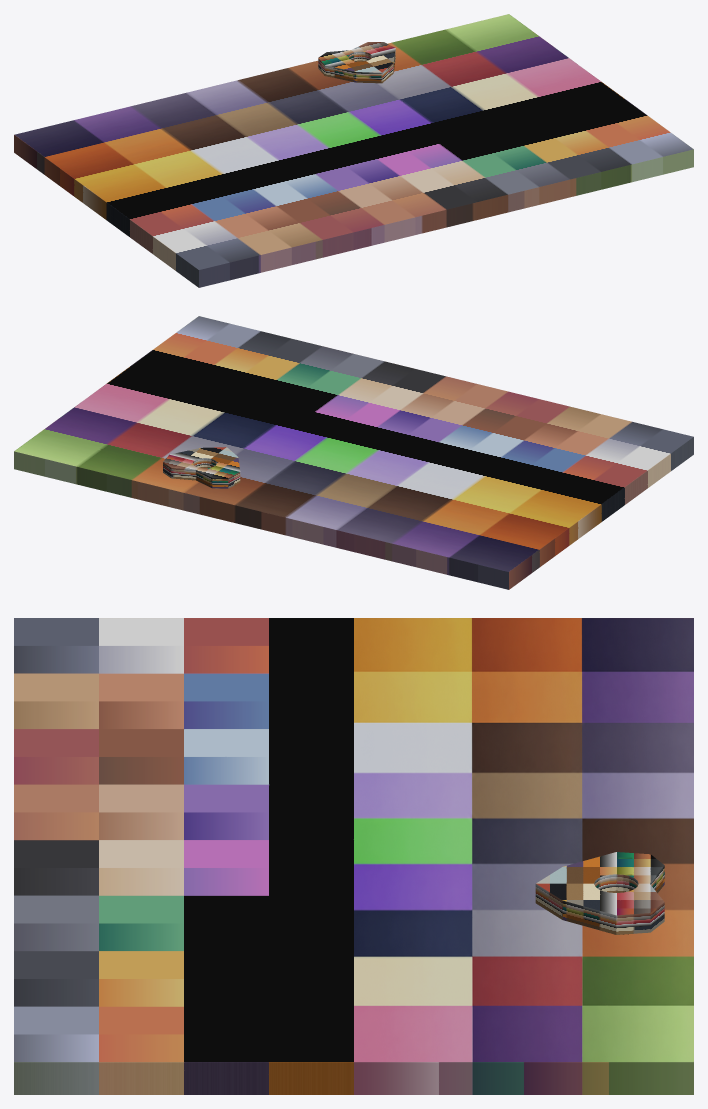
File: EVHalloween_Decor_BonePile.fbx
3 renders of one model, top to bottom at view 1: azimuth 30°, elevation 25°; view 2: azimuth 150°, elevation 25°; view 3: azimuth 270°, elevation 25°, orthographic. The views are drawn at different scales.
Parts seen in each view (by area): view 1: EVHalloween_Decor_PumpkinOrange; view 2: EVHalloween_Decor_PumpkinOrange; view 3: EVHalloween_Decor_PumpkinOrange.
Boxes of the visible parts, x1=… form: EVHalloween_Decor_PumpkinOrange: x1=14, y1=14, x2=693, y2=287; EVHalloween_Decor_PumpkinOrange: x1=14, y1=316, x2=693, y2=589; EVHalloween_Decor_PumpkinOrange: x1=14, y1=618, x2=693, y2=1094.
Bounding box in the file's own units: 102 × 6.3 × 66.
